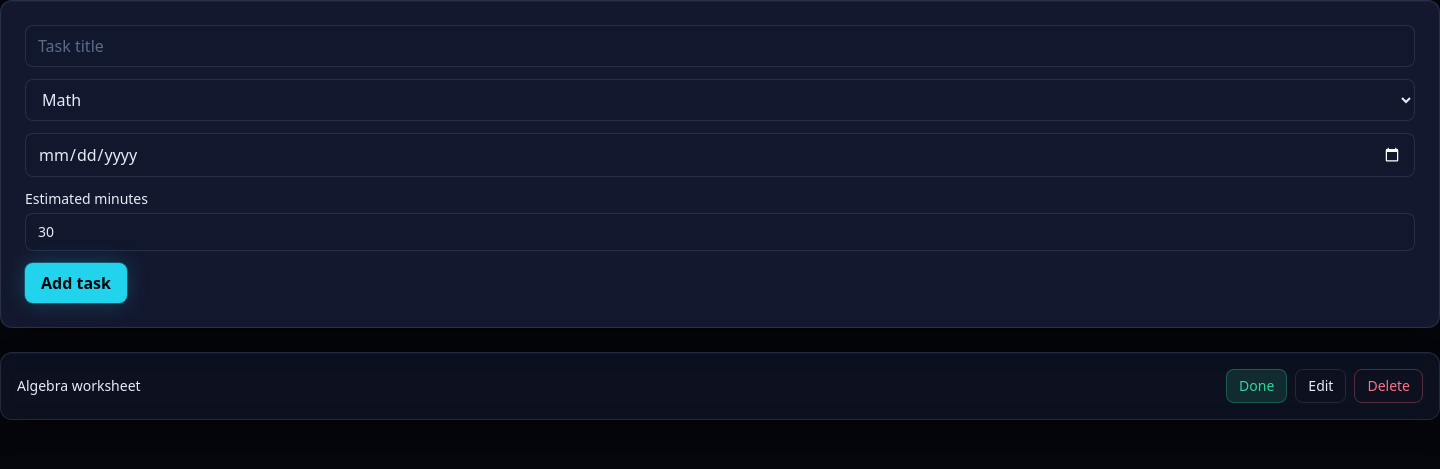
Test: TaskList › shows an error message when marking a task done fails
Click the button with aria-label "mark algebra worksheet done" at (1257, 386), box [1226, 369, 1287, 403]
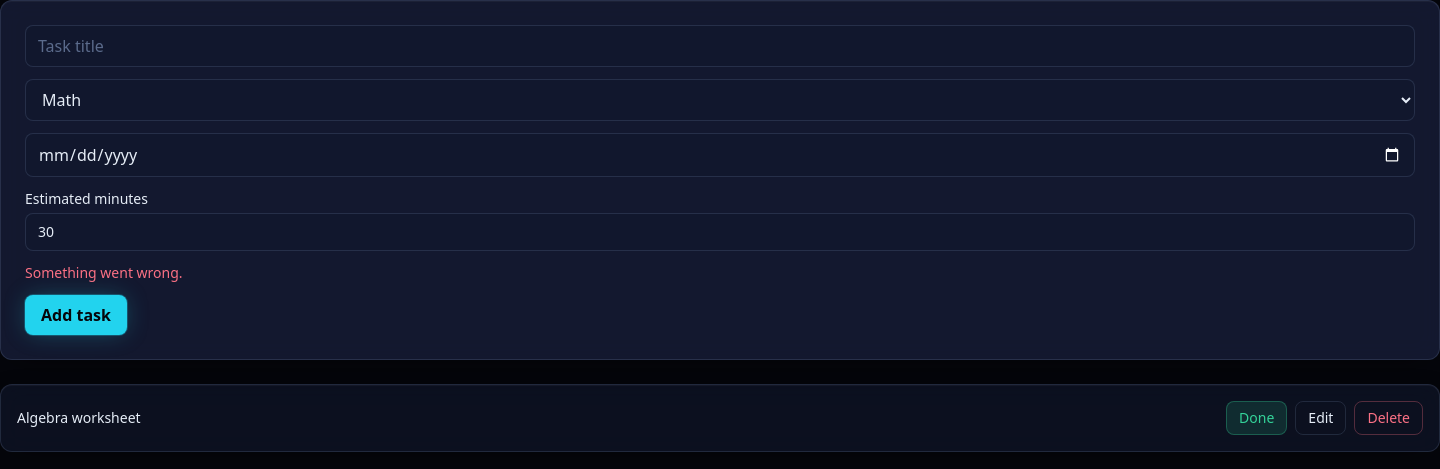
Result: the text "Something went wrong." is shown at [25, 263, 183, 282]
